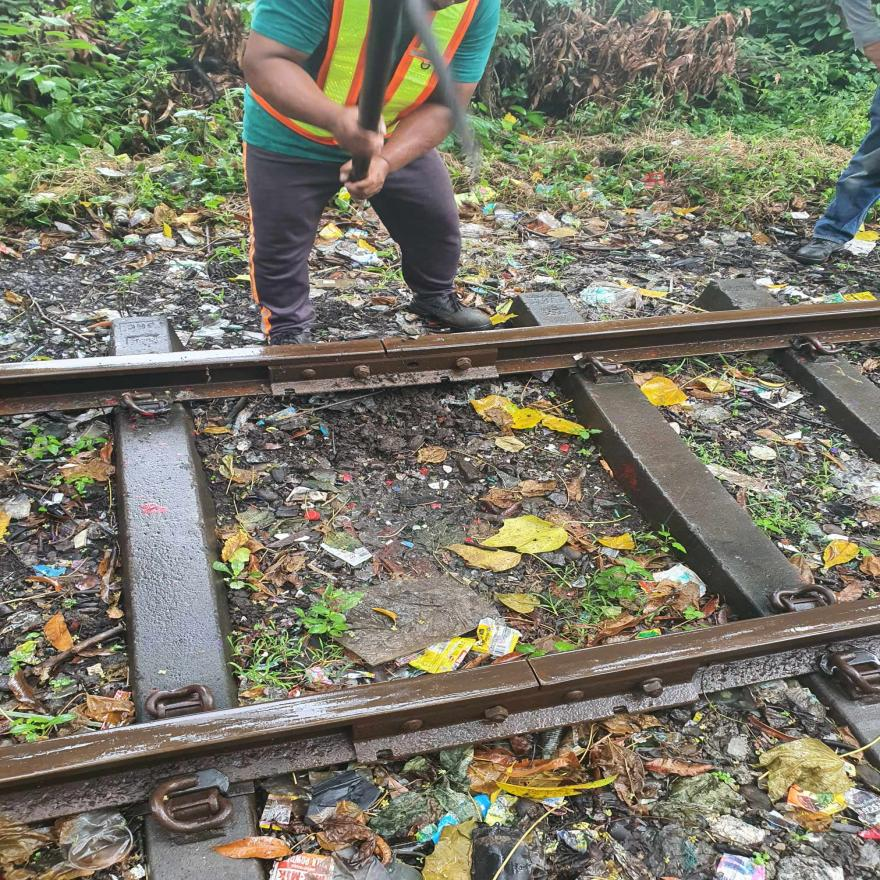railway-gap: (476, 624, 592, 717), (336, 314, 426, 380)
